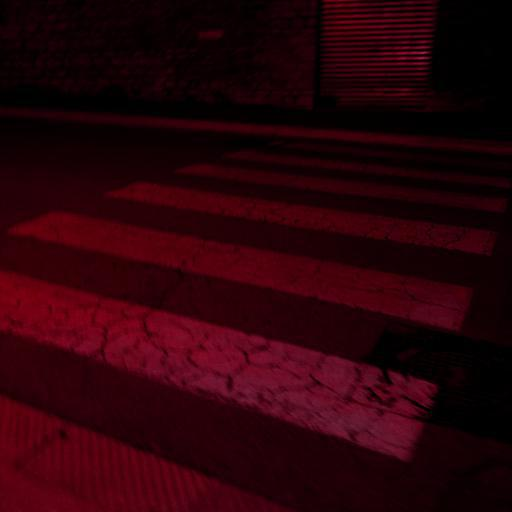crosswalk: (2, 178, 504, 336)
